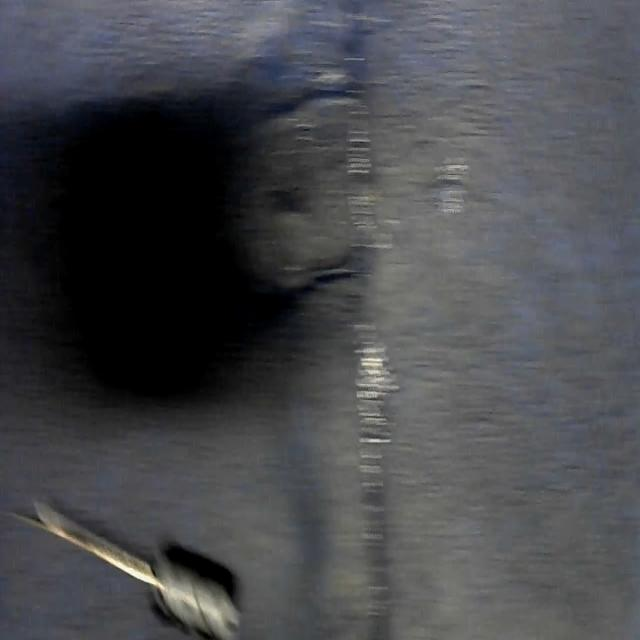capacitor: (4, 492, 238, 640)
